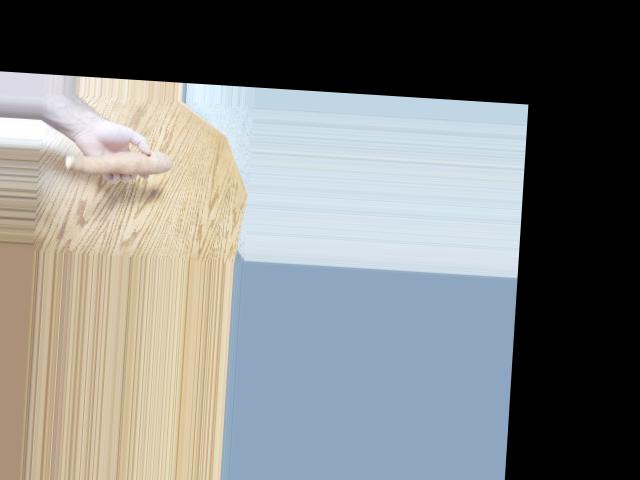sweet_potato: (72, 151, 173, 185)
